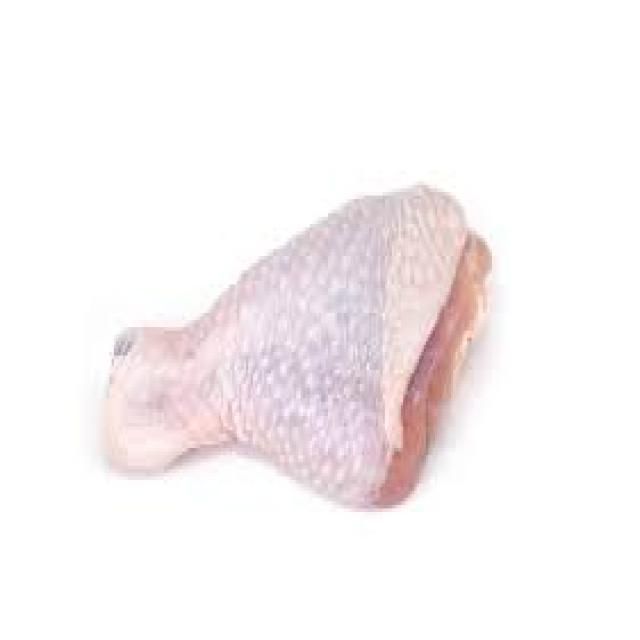leg: (69, 188, 496, 504)
